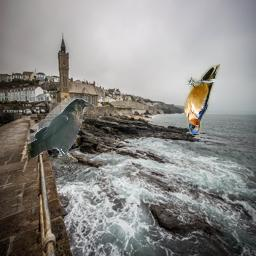Crow: (28, 98, 94, 162)
Swallow: (184, 64, 220, 134)
